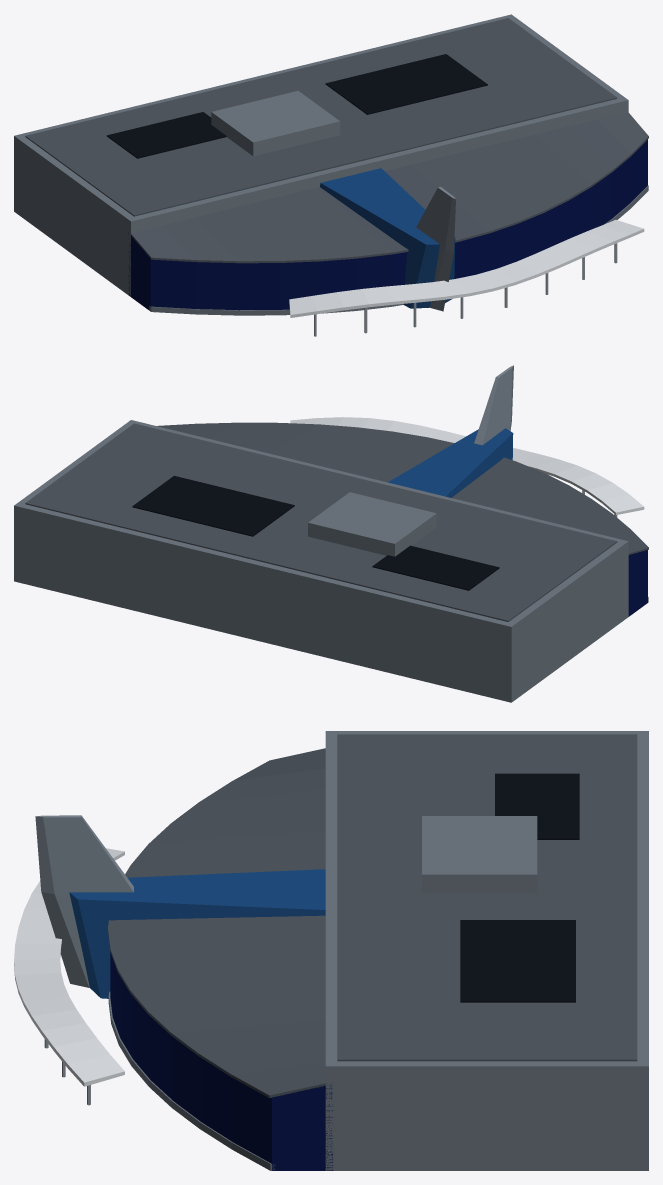
The model's file is atl-georgia-aquarium.glb.
3 views of the same model, one above another, from view 1: azimuth 30°, elevation 25°; view 2: azimuth 150°, elevation 25°; view 3: azimuth 270°, elevation 25° (orthographic). The views are drawn at different scales.
Visible parts, largest first — view 1: aquarium-halls, aquarium-canopy; view 2: aquarium-halls, aquarium-canopy; view 3: aquarium-halls, aquarium-canopy.
Part boxes in pixels (x1=…): aquarium-halls: x1=14, y1=14, x2=648, y2=315; aquarium-canopy: x1=289, y1=220, x2=644, y2=336; aquarium-halls: x1=14, y1=365, x2=648, y2=702; aquarium-canopy: x1=290, y1=417, x2=644, y2=517; aquarium-halls: x1=35, y1=731, x2=648, y2=1170; aquarium-canopy: x1=14, y1=848, x2=124, y2=1105.
Bounding box in the file's own units: 206 × 48 × 165.
